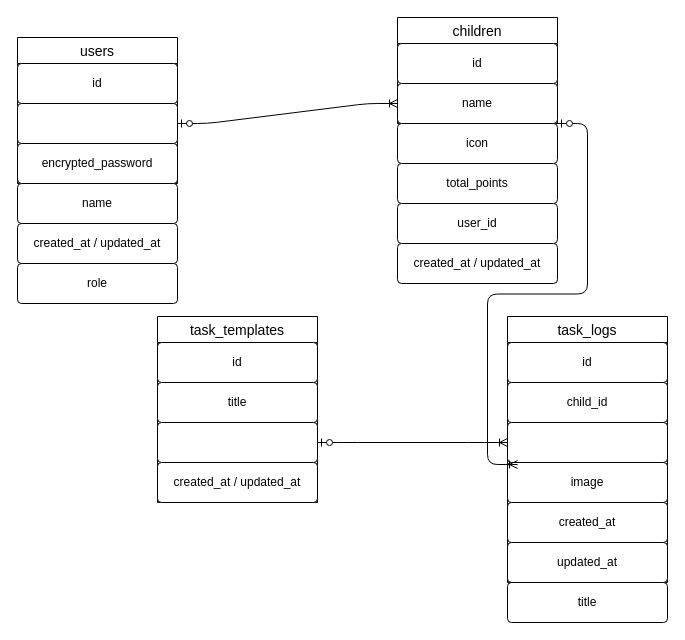
The diagram is 685 pixels wide and 640 high, and some of its shapes have lost their labels. Here are the shapes that lost their labels. From the top down, the centre of each, then its label:
At point 97,123: "email".
At point 237,442: "point".
At point 587,442: "task_template_id".
